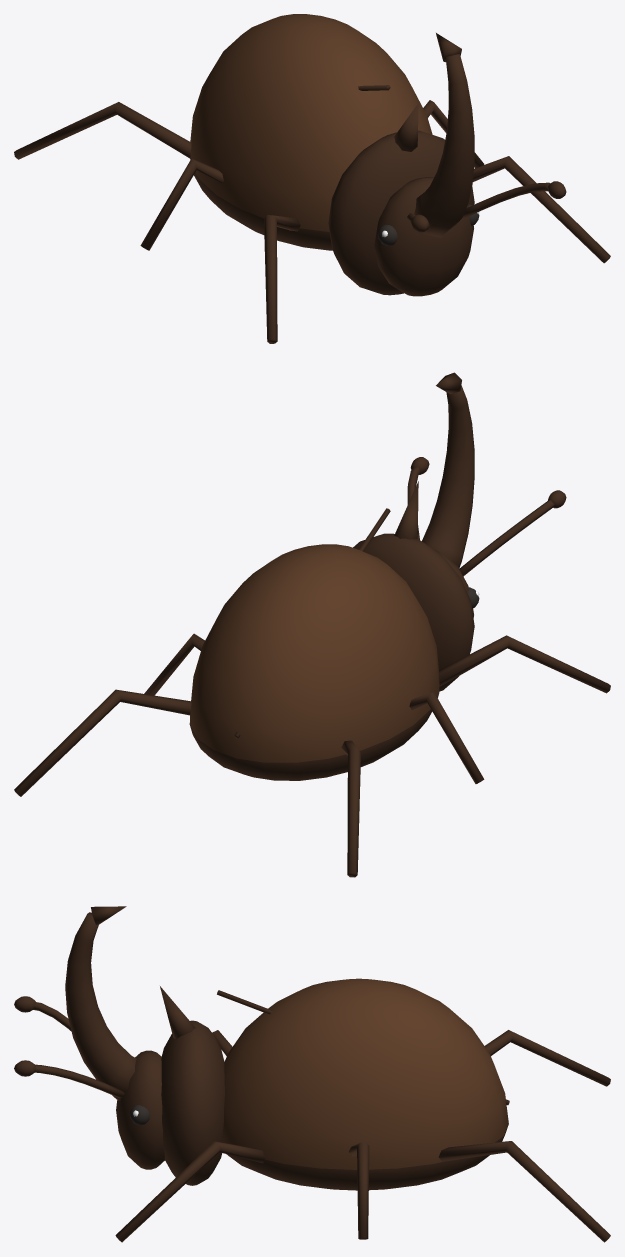
The model's file is bug-rhino-beetle.glb.
3 renders of one model, top to bottom at view 1: azimuth 30°, elevation 25°; view 2: azimuth 150°, elevation 25°; view 3: azimuth 270°, elevation 25°, orthographic. The views are drawn at different scales.
Parts seen in each view (by area): view 1: bug; view 2: bug; view 3: bug.
Part boxes in pixels (box(x1,y1,x2,y2)): bug: box(14, 14, 610, 343); bug: box(14, 372, 610, 877); bug: box(14, 906, 610, 1242).
Size of the model in its own units: 0.2088 by 0.1656 by 0.3282.
